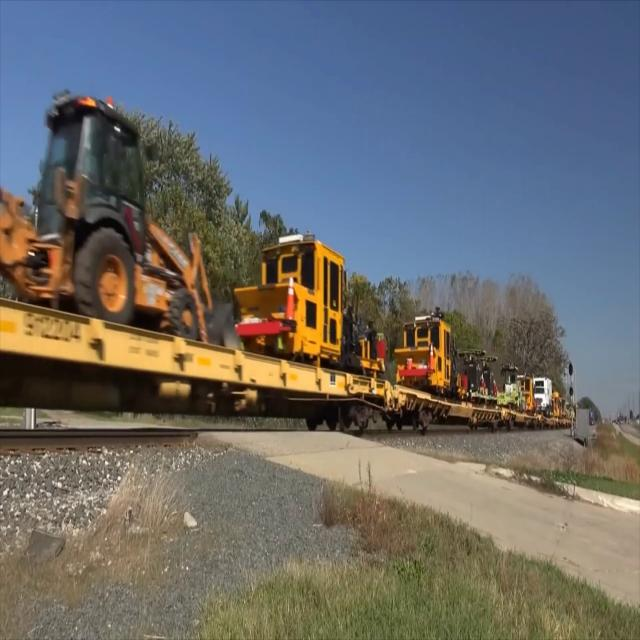cargo: (0, 78, 242, 359), (231, 225, 386, 381), (392, 304, 469, 403)
flatcar: (0, 286, 396, 442), (393, 381, 506, 437)
